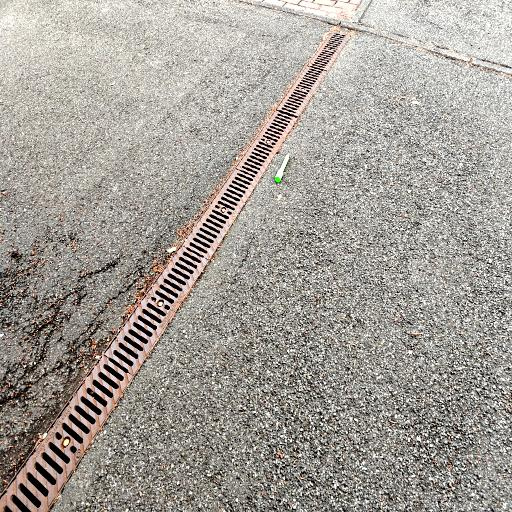Probe-Detection: (275, 154, 289, 183)
